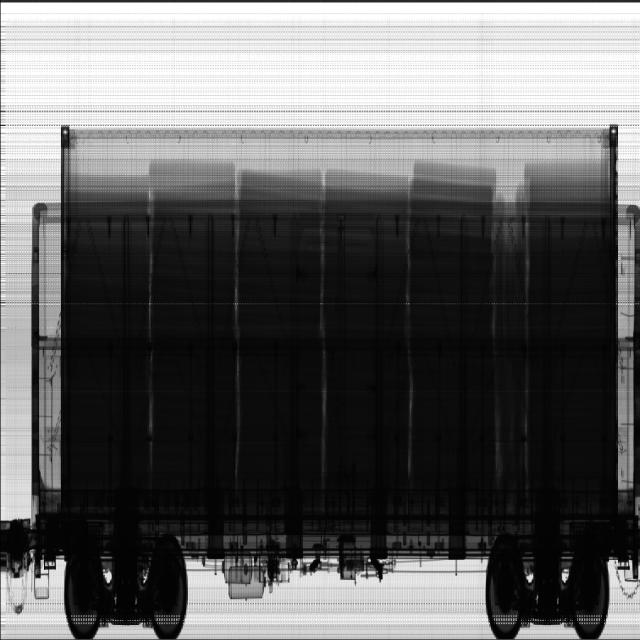fabrics: (68, 157, 614, 502)
